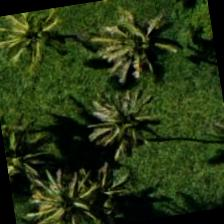Kelapa_Sawit: (78, 80, 181, 183), (79, 0, 183, 93), (20, 146, 122, 223), (0, 5, 81, 85), (0, 107, 62, 205)
